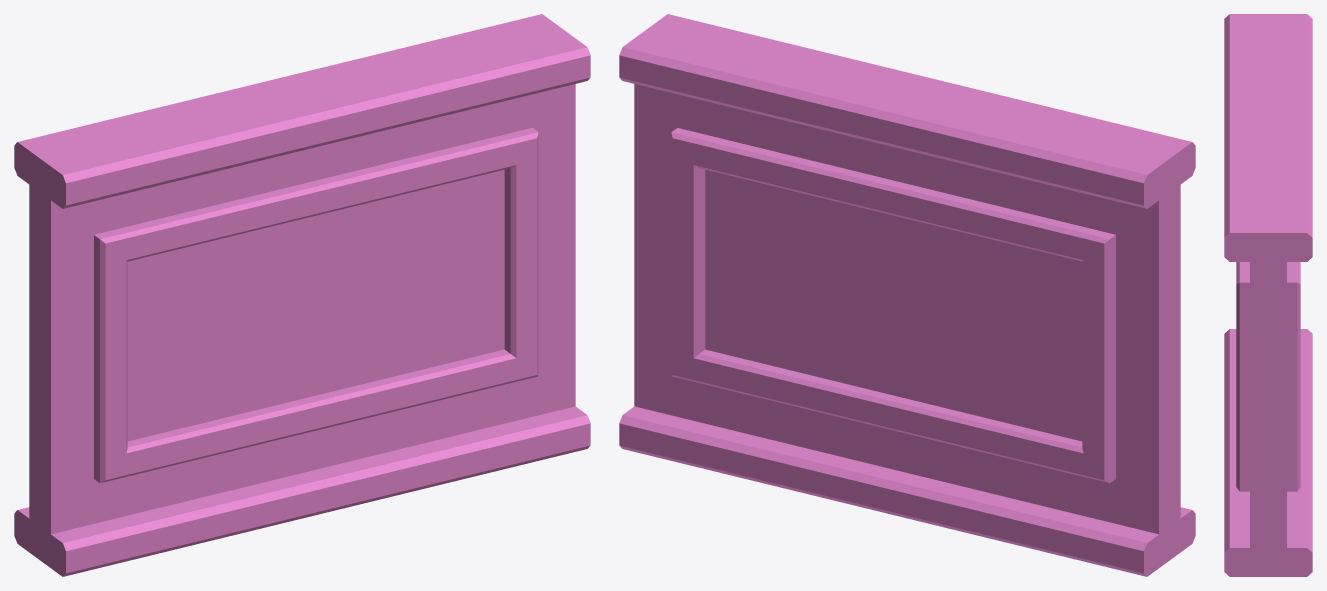
The model's file is ENV_HAU_WALLBOTTOMDOUBLE_MODEL.fbx.
The picture shows the model from 3 angles, left to right: view 1: azimuth 30°, elevation 25°; view 2: azimuth 150°, elevation 25°; view 3: azimuth 270°, elevation 25°; orthographic projection. The views are drawn at different scales.
Parts seen in each view (by area): view 1: ENV_HAU_WALLBOTTOMDOUBLE_MODEL; view 2: ENV_HAU_WALLBOTTOMDOUBLE_MODEL; view 3: ENV_HAU_WALLBOTTOMDOUBLE_MODEL.
Part boxes in pixels (bbox=[...]): ENV_HAU_WALLBOTTOMDOUBLE_MODEL: bbox=[14, 14, 590, 576]; ENV_HAU_WALLBOTTOMDOUBLE_MODEL: bbox=[619, 14, 1195, 576]; ENV_HAU_WALLBOTTOMDOUBLE_MODEL: bbox=[1224, 14, 1312, 576].
Size of the model in its own units: 100 by 73.18 by 17.08.
